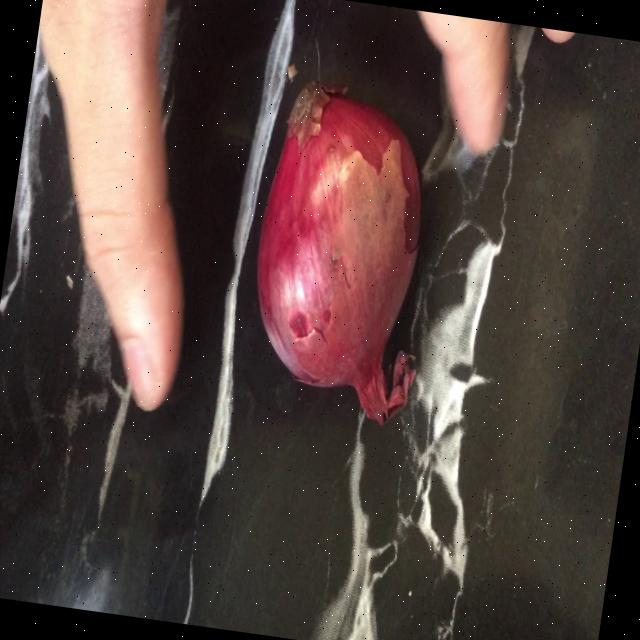Onion: (257, 81, 420, 423)
